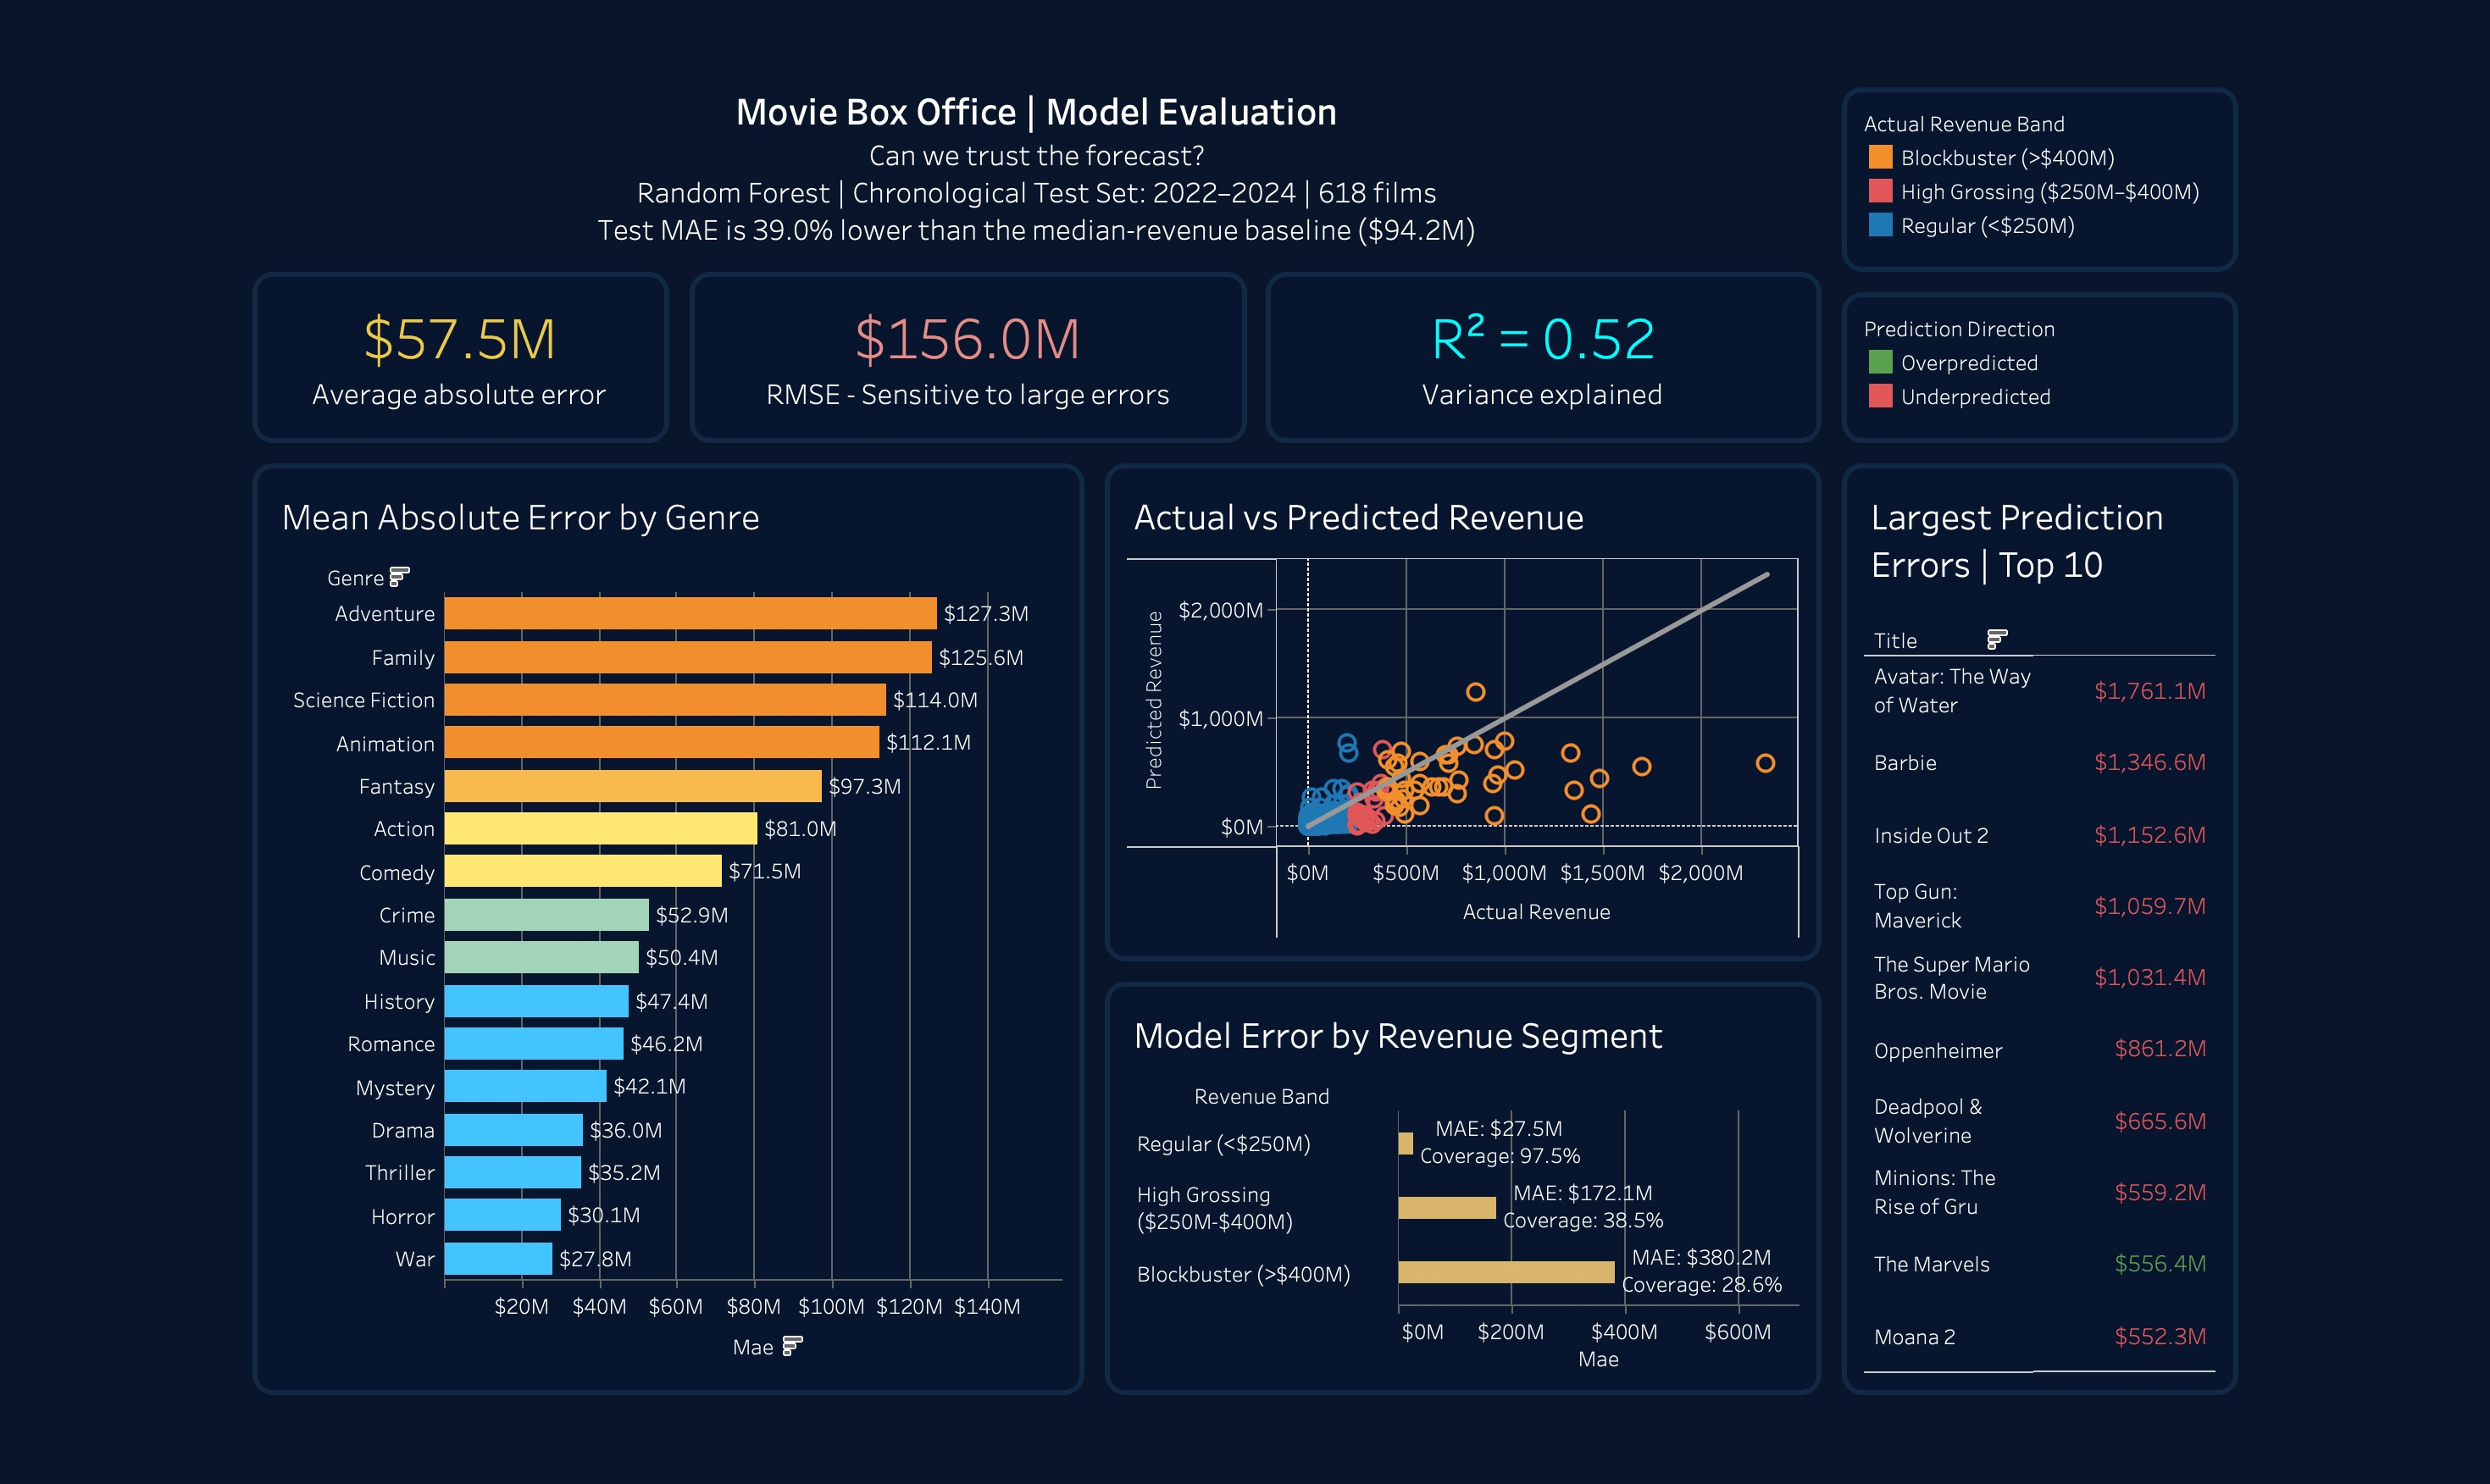

The dashboard page shown, as its layout file describes it:
{"tool":"tableau","page":{"name":"Revenue Model Evaluation","canvas":[1200,800],"ordinal":2},"visuals":[{"type":"text","box":[8,8,938,109]},{"type":"legend","title":"Actual vs Predicted Revenue","param":"[federated.1kpnyqt1s623ai1fgve4e0ag8qro].[none:Calculation_6778875408179211:nk]","box":[946,8,246,121]},{"type":"worksheet","title":"KPI - Test MAE","mark":"Automatic","box":[8,117,257.6,113]},{"type":"worksheet","title":"KPI - Test RMSE","mark":"Automatic","box":[265.6,117,340.6,113]},{"type":"worksheet","title":"KPI - Test R2","mark":"Automatic","box":[606.2,117,339.8,113]},{"type":"legend","title":"Largest Prediction Errors","param":"[federated.1kpnyqt1s623ai1fgve4e0ag8qro].[none:Calculation_6778875408052234:nk]","box":[946,129,246,101]},{"type":"worksheet","title":"Model Error by Genre","mark":"Automatic","rows":["genre"],"cols":["mae_usd"],"box":[8,230,503,562]},{"type":"worksheet","title":"Actual vs Predicted Revenue","mark":"Automatic","rows":["predicted_revenue_usd","worldwide_revenue_usd"],"cols":["worldwide_revenue_usd"],"box":[511,230,435,306]},{"type":"worksheet","title":"Largest Prediction Errors","mark":"Automatic","rows":["title"],"box":[946,230,246,562]},{"type":"worksheet","title":"Error by Revenue Band","mark":"Bar","rows":["revenue_band"],"cols":["mae_usd"],"box":[511,536,435,256]}]}

Visuals, with their boxes on the page's 1200x800 design canvas (x1, y1, x2, y2). These are canvas units, not pixel positions in the 2490x1484 screenshot, which may show the page scaled, cropped or inside an application window:
text: <box>8,8,946,117</box>
"Actual vs Predicted Revenue" legend: <box>946,8,1192,129</box>
"KPI - Test MAE" worksheet: <box>8,117,266,230</box>
"KPI - Test RMSE" worksheet: <box>266,117,606,230</box>
"KPI - Test R2" worksheet: <box>606,117,946,230</box>
"Largest Prediction Errors" legend: <box>946,129,1192,230</box>
"Model Error by Genre" worksheet: <box>8,230,511,792</box>
"Actual vs Predicted Revenue" worksheet: <box>511,230,946,536</box>
"Largest Prediction Errors" worksheet: <box>946,230,1192,792</box>
"Error by Revenue Band" worksheet (Bar marks): <box>511,536,946,792</box>
